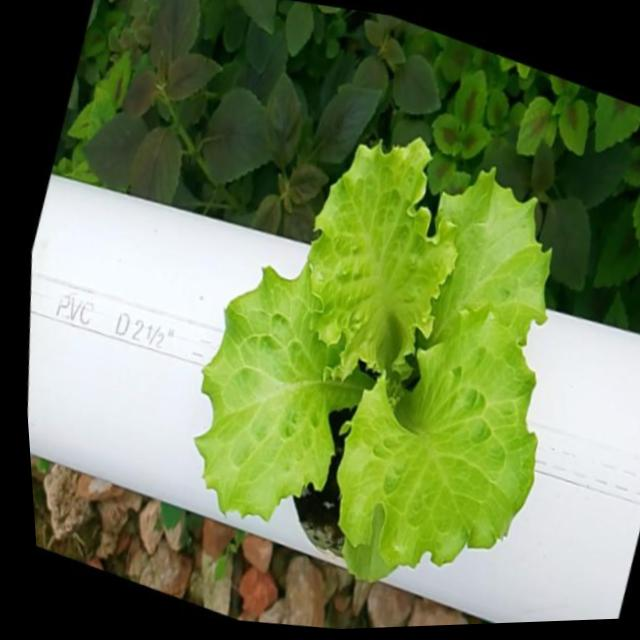Baby: (189, 123, 549, 572)
